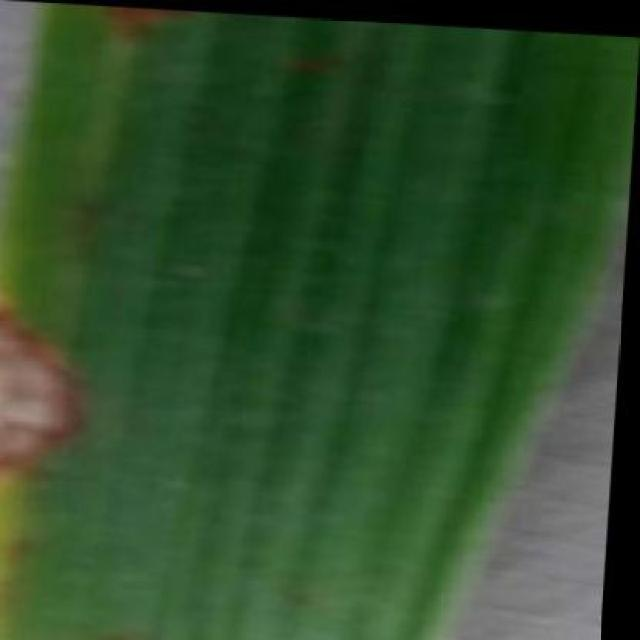Bacterial_Leaf_Blight: (0, 305, 128, 532), (46, 3, 242, 65)
